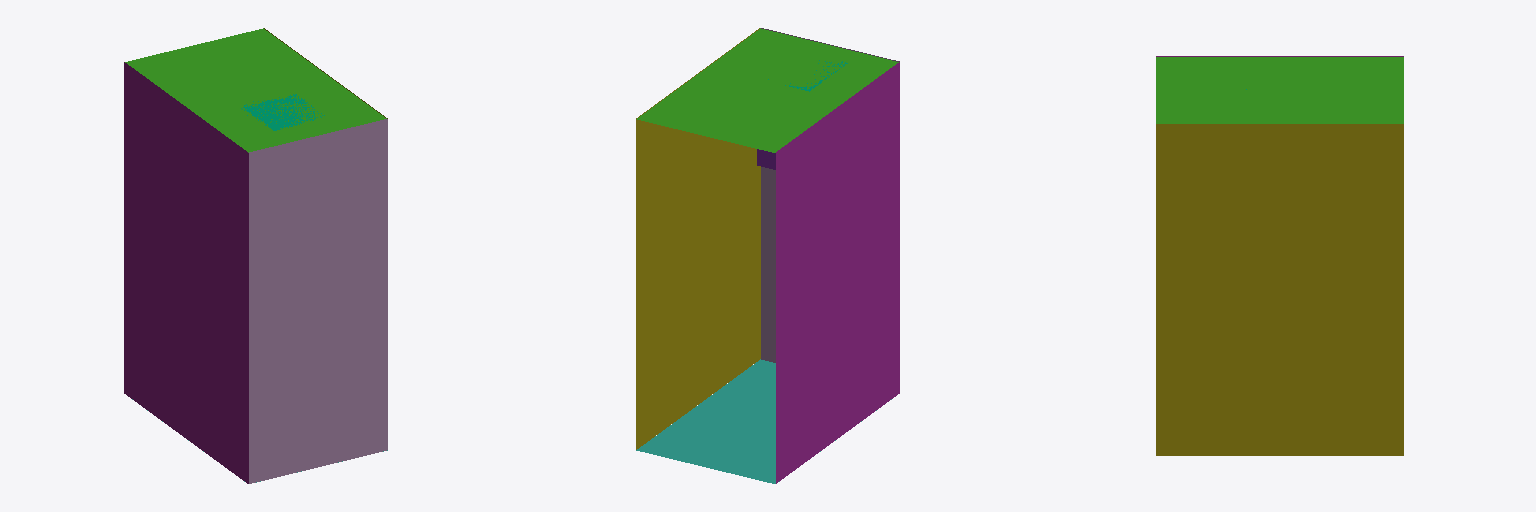
The model's file is room.obj.
3 renders of one model, left to right at view 1: azimuth 30°, elevation 25°; view 2: azimuth 150°, elevation 25°; view 3: azimuth 270°, elevation 25°, orthographic.
Size of the model in its own units: 1.57 by 3.56 by 2.42.